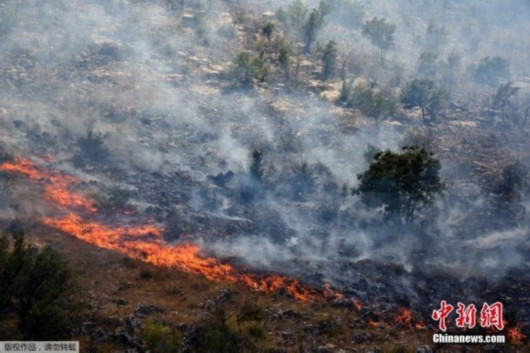fire: (1, 157, 417, 332)
yanwu: (1, 0, 528, 292)
